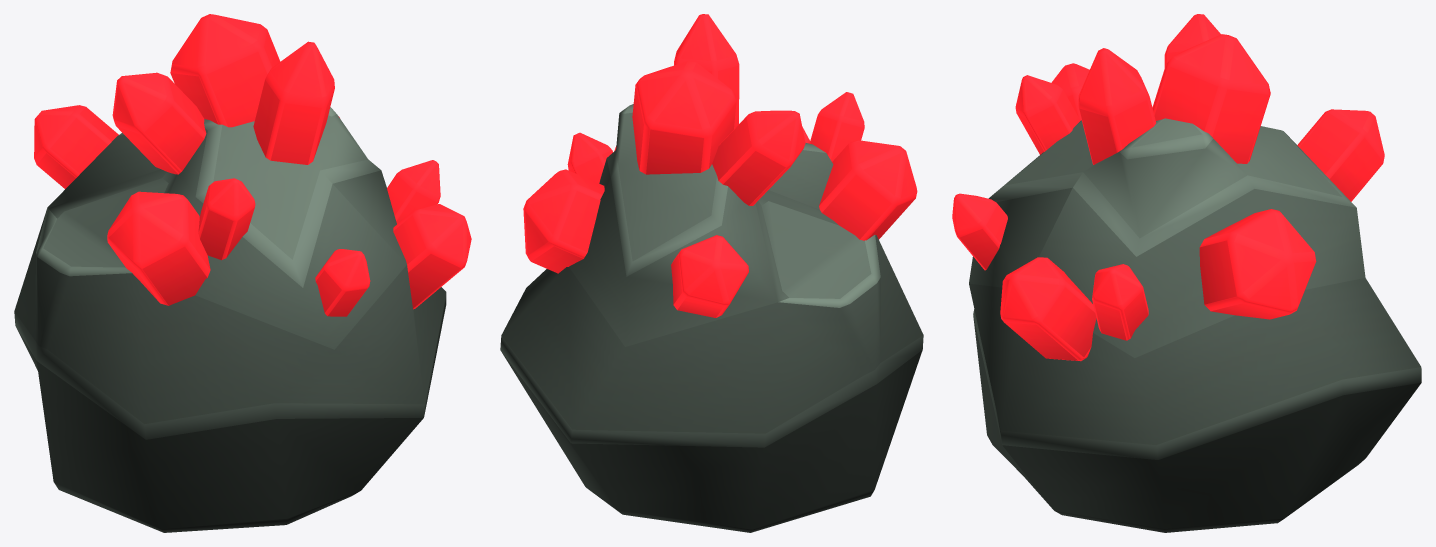
3 views of the same model, side by side, from view 1: azimuth 30°, elevation 25°; view 2: azimuth 150°, elevation 25°; view 3: azimuth 270°, elevation 25° (orthographic). The views are drawn at different scales.
Parts seen in each view (by area): view 1: ore_christal_saphire_L_cube_mat_0.007; view 2: ore_christal_saphire_L_cube_mat_0.007; view 3: ore_christal_saphire_L_cube_mat_0.007.
Boxes of the visible parts, x1,y1,x2,y2 form: ore_christal_saphire_L_cube_mat_0.007: (14,14,471,532); ore_christal_saphire_L_cube_mat_0.007: (500,14,923,532); ore_christal_saphire_L_cube_mat_0.007: (952,14,1421,532).
Bounding box in the file's own units: 196 × 234 × 199.
1 material, 1 textured.
